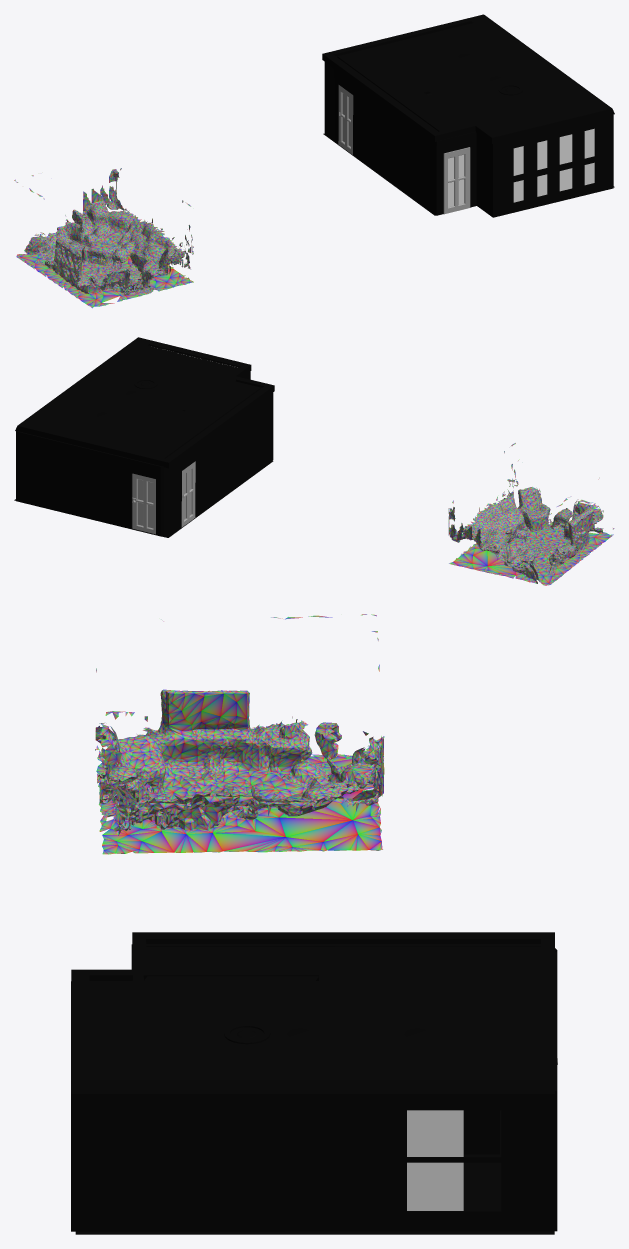
The model's file is House.fbx.
3 renders of one model, top to bottom at view 1: azimuth 30°, elevation 25°; view 2: azimuth 150°, elevation 25°; view 3: azimuth 270°, elevation 25°, orthographic. The views are drawn at different scales.
Parts seen in each view (by area): view 1: CellingShape, polySurface1, Wireframe3, pCube12, pCube21, polySurface17; view 2: CellingShape, polySurface1, Wireframe3, pCube33, polySurface17; view 3: CellingShape, polySurface1, Wireframe3, pCube17, Floor, pCube27.
Part boxes in pixels (bbox=[...]): CellingShape: bbox=[322, 14, 614, 143]; polySurface1: bbox=[324, 56, 613, 217]; Wireframe3: bbox=[14, 168, 193, 308]; pCube12: bbox=[513, 128, 594, 202]; pCube21: bbox=[443, 147, 470, 214]; polySurface17: bbox=[338, 85, 353, 154]; CellingShape: bbox=[15, 337, 274, 468]; polySurface1: bbox=[16, 345, 273, 536]; Wireframe3: bbox=[448, 443, 614, 585]; pCube33: bbox=[132, 473, 155, 534]; polySurface17: bbox=[181, 461, 195, 527]; CellingShape: bbox=[71, 932, 554, 1093]; polySurface1: bbox=[71, 944, 557, 1231]; Wireframe3: bbox=[95, 614, 384, 854]; pCube17: bbox=[407, 1110, 463, 1210]; Floor: bbox=[75, 1110, 554, 1234]; pCube27: bbox=[463, 1110, 499, 1154].
Bounding box in the file's own units: 1763 × 262 × 759.
